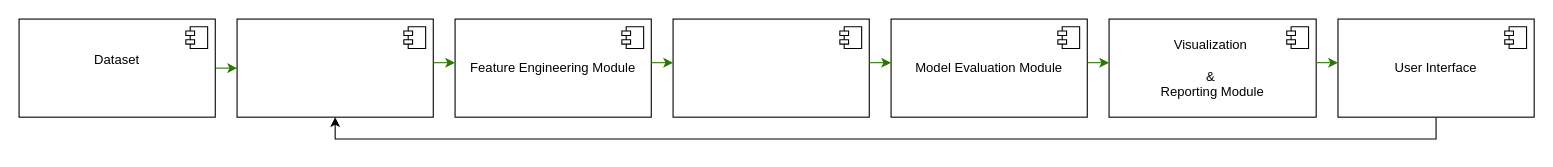
The diagram is 1553 pixels wide and 167 high, and some of its shapes have lost their labels. The shapes that lost their labels are listed below. From the top down, each one's box as (x1, y1, x2, y2) in pixels, then its label:
(236, 18, 433, 117): Data Processing Module
(672, 18, 869, 117): Machine Learning Model
